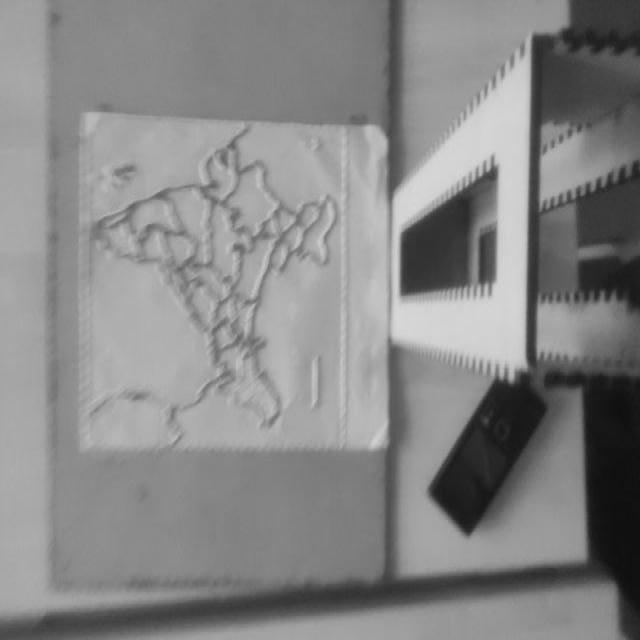map: (81, 113, 347, 449)
